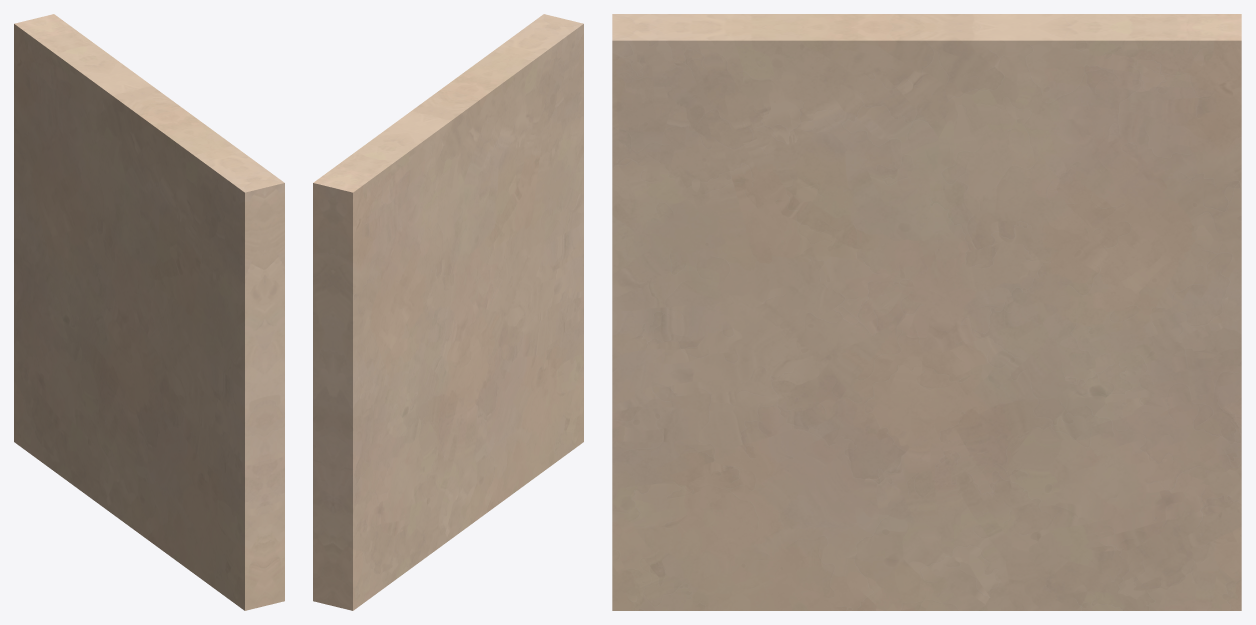
Rendered from SM_Wall2x2.glb.
3 views of the same model, side by side, from view 1: azimuth 30°, elevation 25°; view 2: azimuth 150°, elevation 25°; view 3: azimuth 270°, elevation 25° (orthographic). The views are drawn at different scales.
Visible parts, largest first — view 1: SM_Wall2x2; view 2: SM_Wall2x2; view 3: SM_Wall2x2.
Part boxes in pixels (x1,y1,x2,y2): SM_Wall2x2: [14, 14, 284, 610]; SM_Wall2x2: [313, 14, 583, 610]; SM_Wall2x2: [612, 14, 1241, 610].
Size of the model in its own units: 0.2 by 2 by 2.
1 material, 1 textured.
